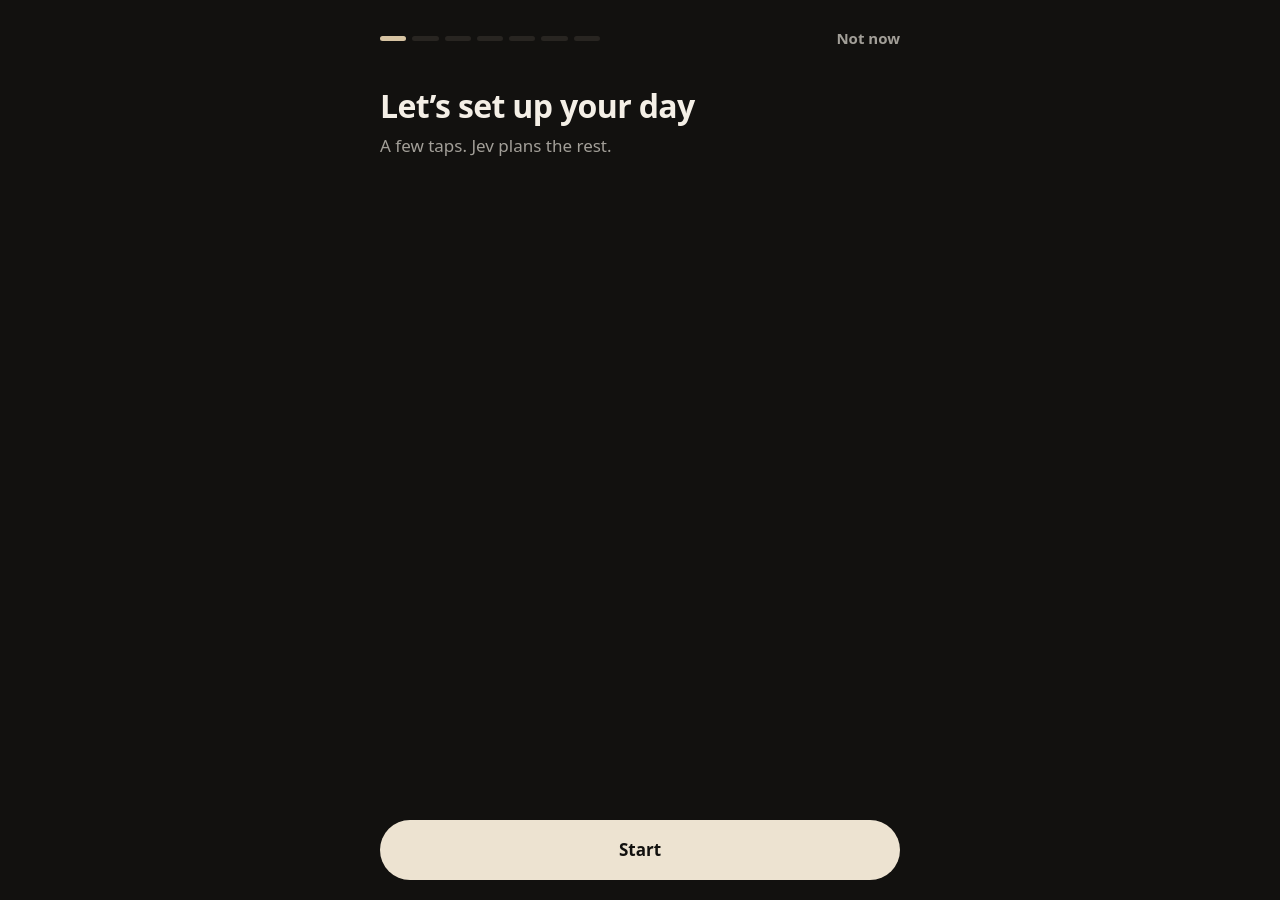
Test: setup flow › opens on first load after the server answers, and never again once finished
Expected: the dialog "Let’s set up your day" is shown, [360,0,920,899]
Click the button "Not now". click: (868,38)
box: [828,16,908,60]
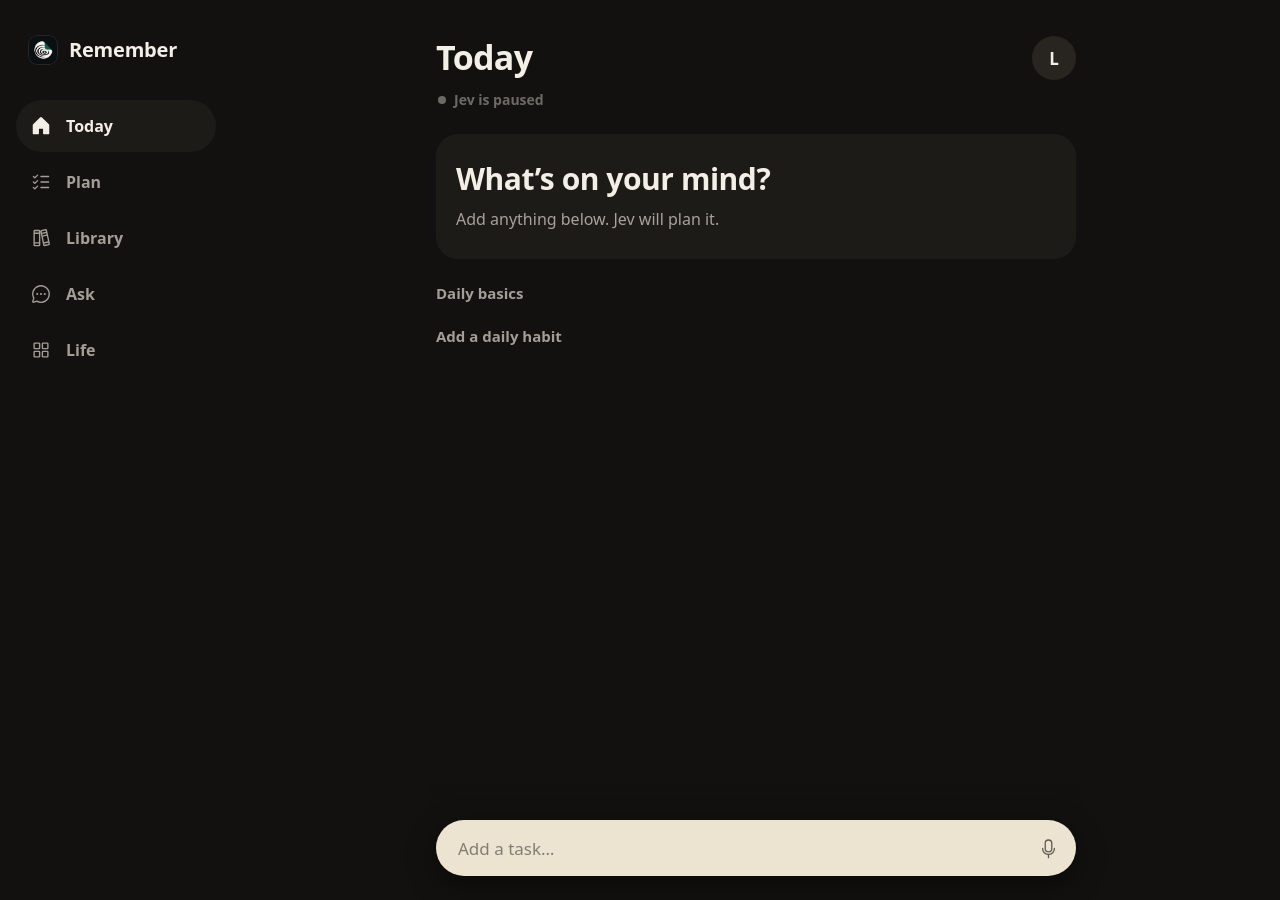
Expected: the dialog is gone
